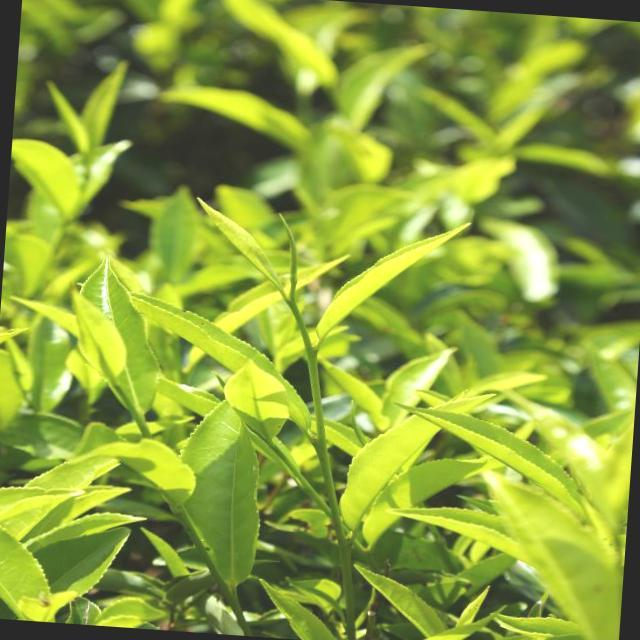Stem: (287, 301, 298, 311)
